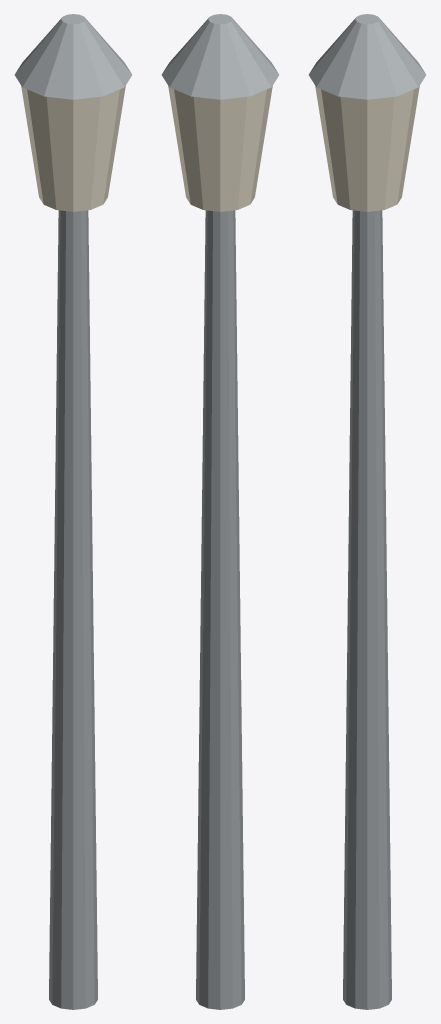
The model's file is lamp-post.glb.
3 views of the same model, side by side, from view 1: azimuth 30°, elevation 25°; view 2: azimuth 150°, elevation 25°; view 3: azimuth 330°, elevation 25° (orthographic).
Visible parts, largest first — view 1: lamp-post; view 2: lamp-post; view 3: lamp-post.
Boxes of the visible parts, x1=… form: lamp-post: x1=14, y1=14, x2=132, y2=1009; lamp-post: x1=161, y1=14, x2=279, y2=1009; lamp-post: x1=308, y1=14, x2=426, y2=1009.
Size of the model in its own units: 0.1091 by 1 by 0.1091.
